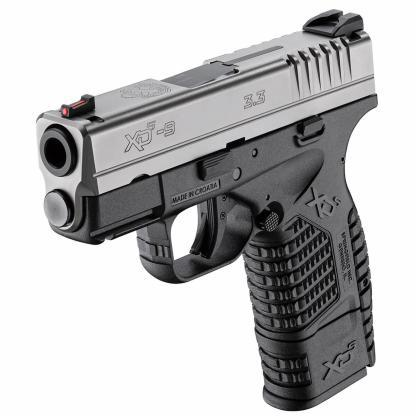Pistol: (14, 16, 394, 416)
